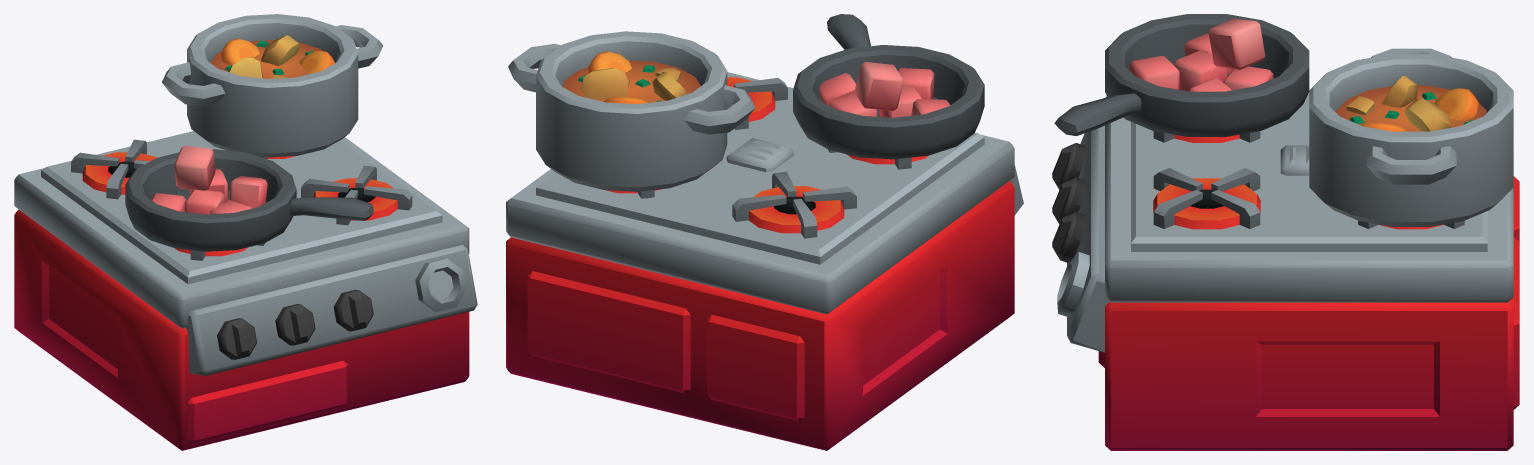
File: stove_multi_decorated.obj
The picture shows the model from 3 angles, left to right: view 1: azimuth 30°, elevation 25°; view 2: azimuth 150°, elevation 25°; view 3: azimuth 270°, elevation 25°; orthographic projection. The views are drawn at different scales.
Visible parts, largest first — view 1: stove_multi_decorated_Cube.003; view 2: stove_multi_decorated_Cube.003; view 3: stove_multi_decorated_Cube.003.
Part boxes in pixels (<box>): stove_multi_decorated_Cube.003: <box>14,14,477,450</box>; stove_multi_decorated_Cube.003: <box>506,14,1023,450</box>; stove_multi_decorated_Cube.003: <box>1052,14,1519,450</box>.
Size of the model in its own units: 2.2 by 1.72 by 2.29.
Materials: 1 (1 with a texture image).
